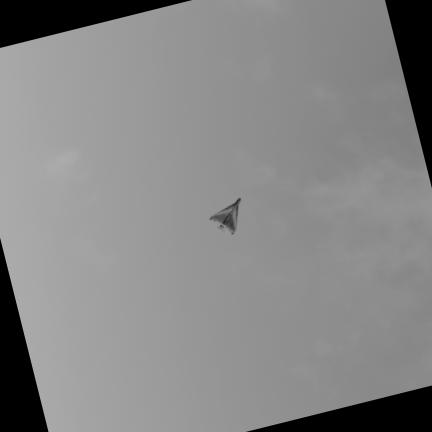Shahed: (210, 198, 239, 234)
